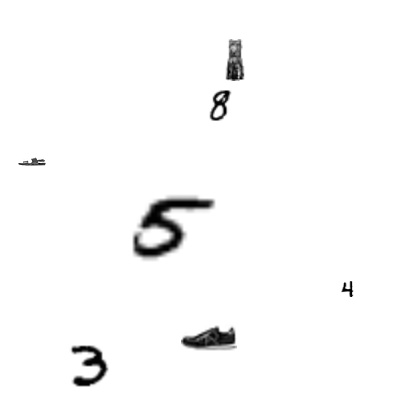3: (62, 336, 118, 392)
4: (337, 278, 359, 300)
5: (110, 168, 222, 280)
8: (198, 83, 240, 125)
Dress: (214, 39, 256, 81)
Sandal: (18, 147, 46, 175)
Sneaker: (181, 308, 237, 364)
